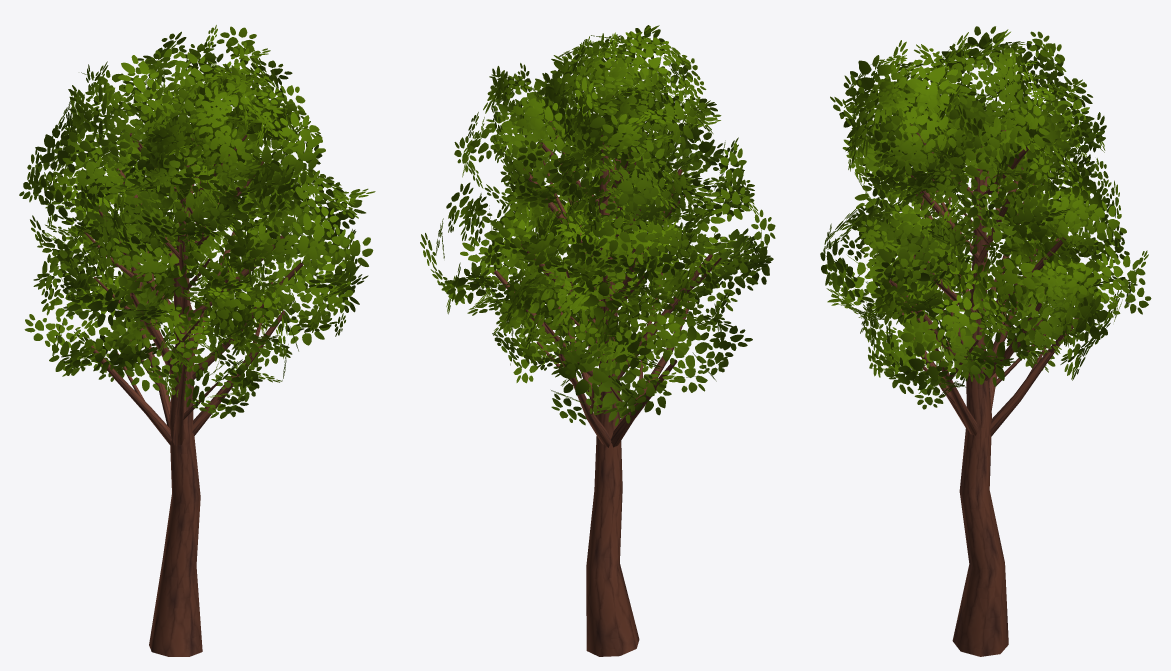
Rendered from fruit_tree.gltf.
3 renders of one model, left to right at view 1: azimuth 30°, elevation 25°; view 2: azimuth 150°, elevation 25°; view 3: azimuth 270°, elevation 25°, orthographic. The views are drawn at different scales.
Visible parts, largest first — view 1: fruit_tree; view 2: fruit_tree; view 3: fruit_tree.
Boxes of the visible parts, box(x1,y1,x2,y2) form: fruit_tree: box(19, 25, 375, 656); fruit_tree: box(420, 25, 775, 656); fruit_tree: box(820, 26, 1151, 656).
Bounding box in the file's own units: 5.18 × 9.42 × 4.74.
Materials: 2 (2 with a texture image).
